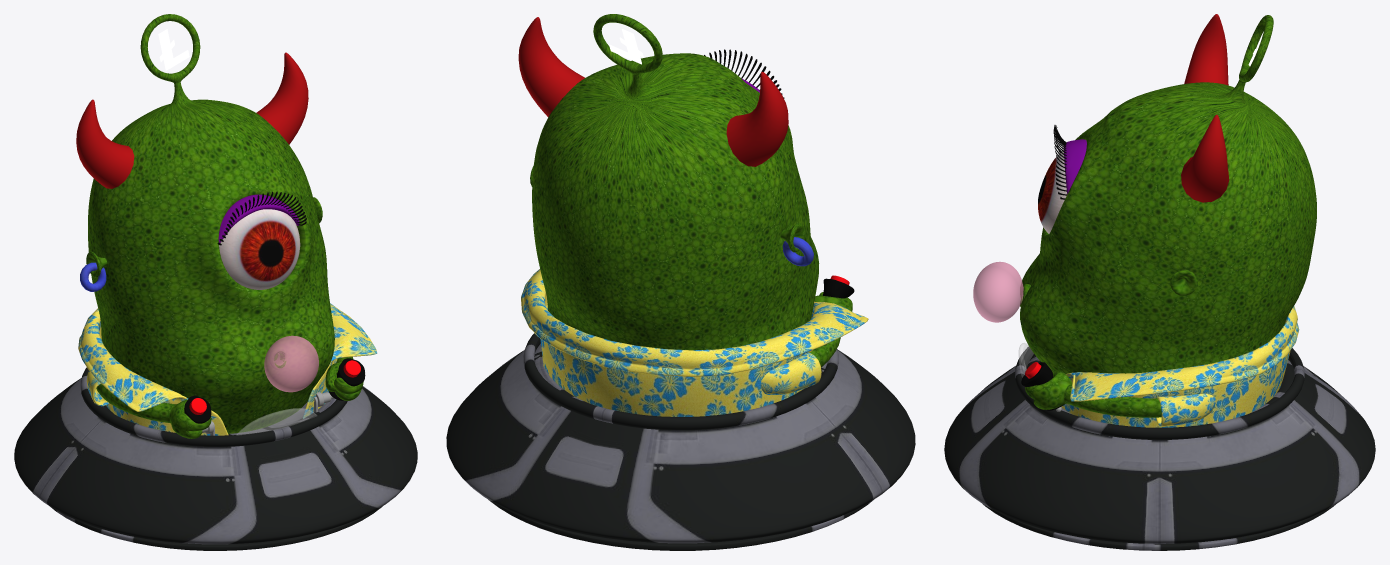
The model's file is martien1.glb.
3 renders of one model, left to right at view 1: azimuth 30°, elevation 25°; view 2: azimuth 150°, elevation 25°; view 3: azimuth 270°, elevation 25°, orthographic. The views are drawn at different scales.
Parts seen in each view (by area): view 1: EY13-18_M9_eyeLashesEye, SA1-8,18_flyingsaucerflying, V1-5_hawaiShirtvest, H1_hornhorns, OEY13-18_eyeLashesorbit, hands, OM9_bubblebubble, OEY13-18_eyeLasheseyelid.002, SA1-8,18_flyingsaucerglass, SAmanette2.001, OEY13-18_eyeLasheseyelashes, C12_LTC (+1 smaller); view 2: EY13-18_M9_eyeLashesEye, SA1-8,18_flyingsaucerflying, V1-5_hawaiShirtvest, H1_hornhorns, V1-5_hawaiShirtarm, hands, OEY13-18_eyeLasheseyelashes, EA1-3,10_smallEarringearring; view 3: EY13-18_M9_eyeLashesEye, SA1-8,18_flyingsaucerflying, V1-5_hawaiShirtvest, H1_hornhorns, hands, OM9_bubblebubble, V1-5_hawaiShirtarm, OEY13-18_eyeLashesorbit, OEY13-18_eyeLasheseyelid.002.
Boxes of the visible parts, box(x1,y1,x2,y2) form: EY13-18_M9_eyeLashesEye: box(86, 14, 334, 433); SA1-8,18_flyingsaucerflying: box(14, 367, 417, 550); V1-5_hawaiShirtvest: box(78, 303, 377, 435); H1_hornhorns: box(76, 52, 308, 188); OEY13-18_eyeLashesorbit: box(219, 209, 300, 289); hands: box(96, 357, 363, 438); OM9_bubblebubble: box(264, 335, 318, 392); OEY13-18_eyeLasheseyelid.002: box(218, 194, 299, 242); SA1-8,18_flyingsaucerglass: box(236, 408, 316, 435); SAmanette2.001: box(184, 358, 365, 423); OEY13-18_eyeLasheseyelashes: box(217, 191, 306, 245); C12_LTC: box(158, 29, 189, 70); EY13-18_M9_eyeLashesEye: box(530, 14, 819, 350); SA1-8,18_flyingsaucerflying: box(446, 333, 915, 550); V1-5_hawaiShirtvest: box(521, 269, 868, 416); H1_hornhorns: box(518, 17, 788, 166); V1-5_hawaiShirtarm: box(534, 305, 821, 395); hands: box(547, 292, 852, 367); OEY13-18_eyeLasheseyelashes: box(704, 49, 784, 98); EA1-3,10_smallEarringearring: box(782, 237, 813, 266); EY13-18_M9_eyeLashesEye: box(1020, 15, 1316, 373); SA1-8,18_flyingsaucerflying: box(944, 346, 1375, 550); V1-5_hawaiShirtvest: box(1061, 306, 1299, 427); H1_hornhorns: box(1181, 14, 1229, 202); hands: box(1025, 371, 1161, 417); OM9_bubblebubble: box(973, 261, 1023, 322); V1-5_hawaiShirtarm: box(1156, 393, 1215, 426); OEY13-18_eyeLashesorbit: box(1038, 150, 1066, 233); OEY13-18_eyeLasheseyelid.002: box(1064, 139, 1086, 193).
Size of the model in its own units: 1.95 by 2.43 by 1.95.
Materials: 18 (5 with a texture image).
